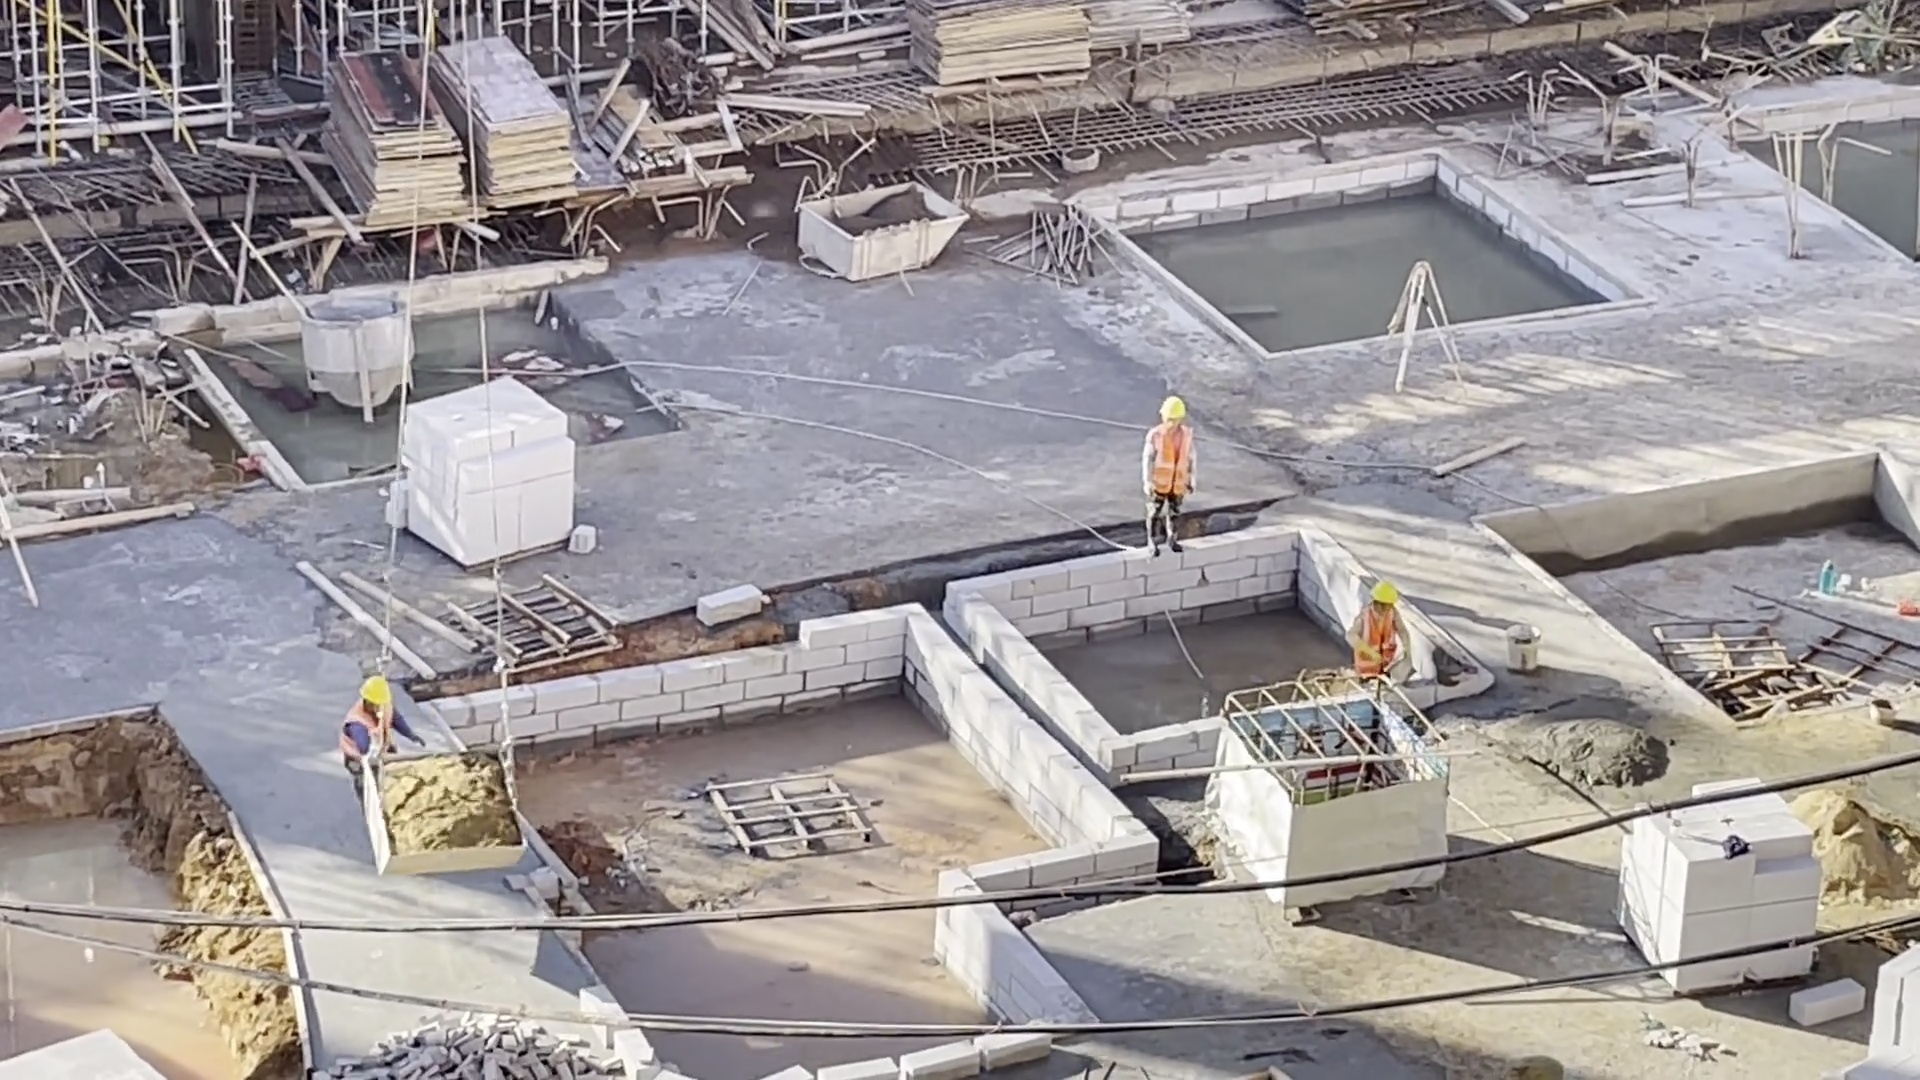board: (311, 41, 475, 227), (425, 31, 586, 216), (893, 6, 1104, 100)
brick: (408, 368, 578, 571), (1610, 819, 1821, 945)
helmet: (354, 672, 388, 705), (1364, 578, 1400, 605), (1154, 394, 1185, 420)
hopper: (359, 750, 533, 885), (788, 178, 970, 285), (295, 295, 419, 423)
person: (1141, 393, 1204, 555), (329, 671, 432, 757), (1341, 577, 1412, 680)
vest: (1145, 424, 1192, 501), (1355, 605, 1397, 675)
